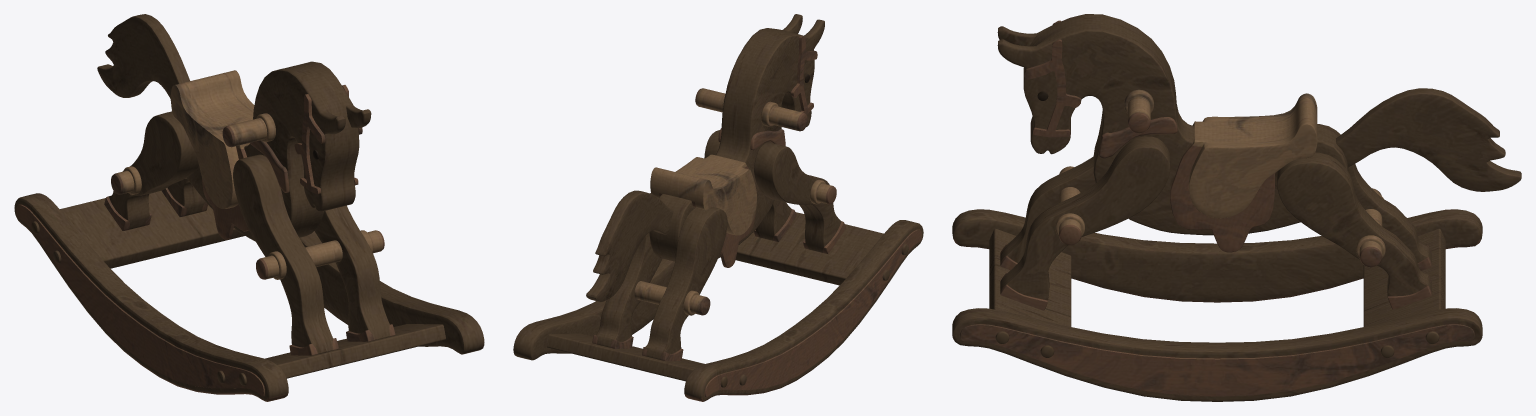
The model's file is hobbyhorse.glb.
3 views of the same model, side by side, from view 1: azimuth 30°, elevation 25°; view 2: azimuth 150°, elevation 25°; view 3: azimuth 270°, elevation 25° (orthographic). The views are drawn at different scales.
Parts seen in each view (by area): view 1: Rocking Horse; view 2: Rocking Horse; view 3: Rocking Horse.
Boxes of the visible parts, x1=… form: Rocking Horse: x1=14, y1=14, x2=484, y2=401; Rocking Horse: x1=513, y1=14, x2=923, y2=401; Rocking Horse: x1=952, y1=14, x2=1521, y2=401.
Bounding box in the file's own units: 0.4718 × 0.6347 × 1.
1 material, 1 textured.
